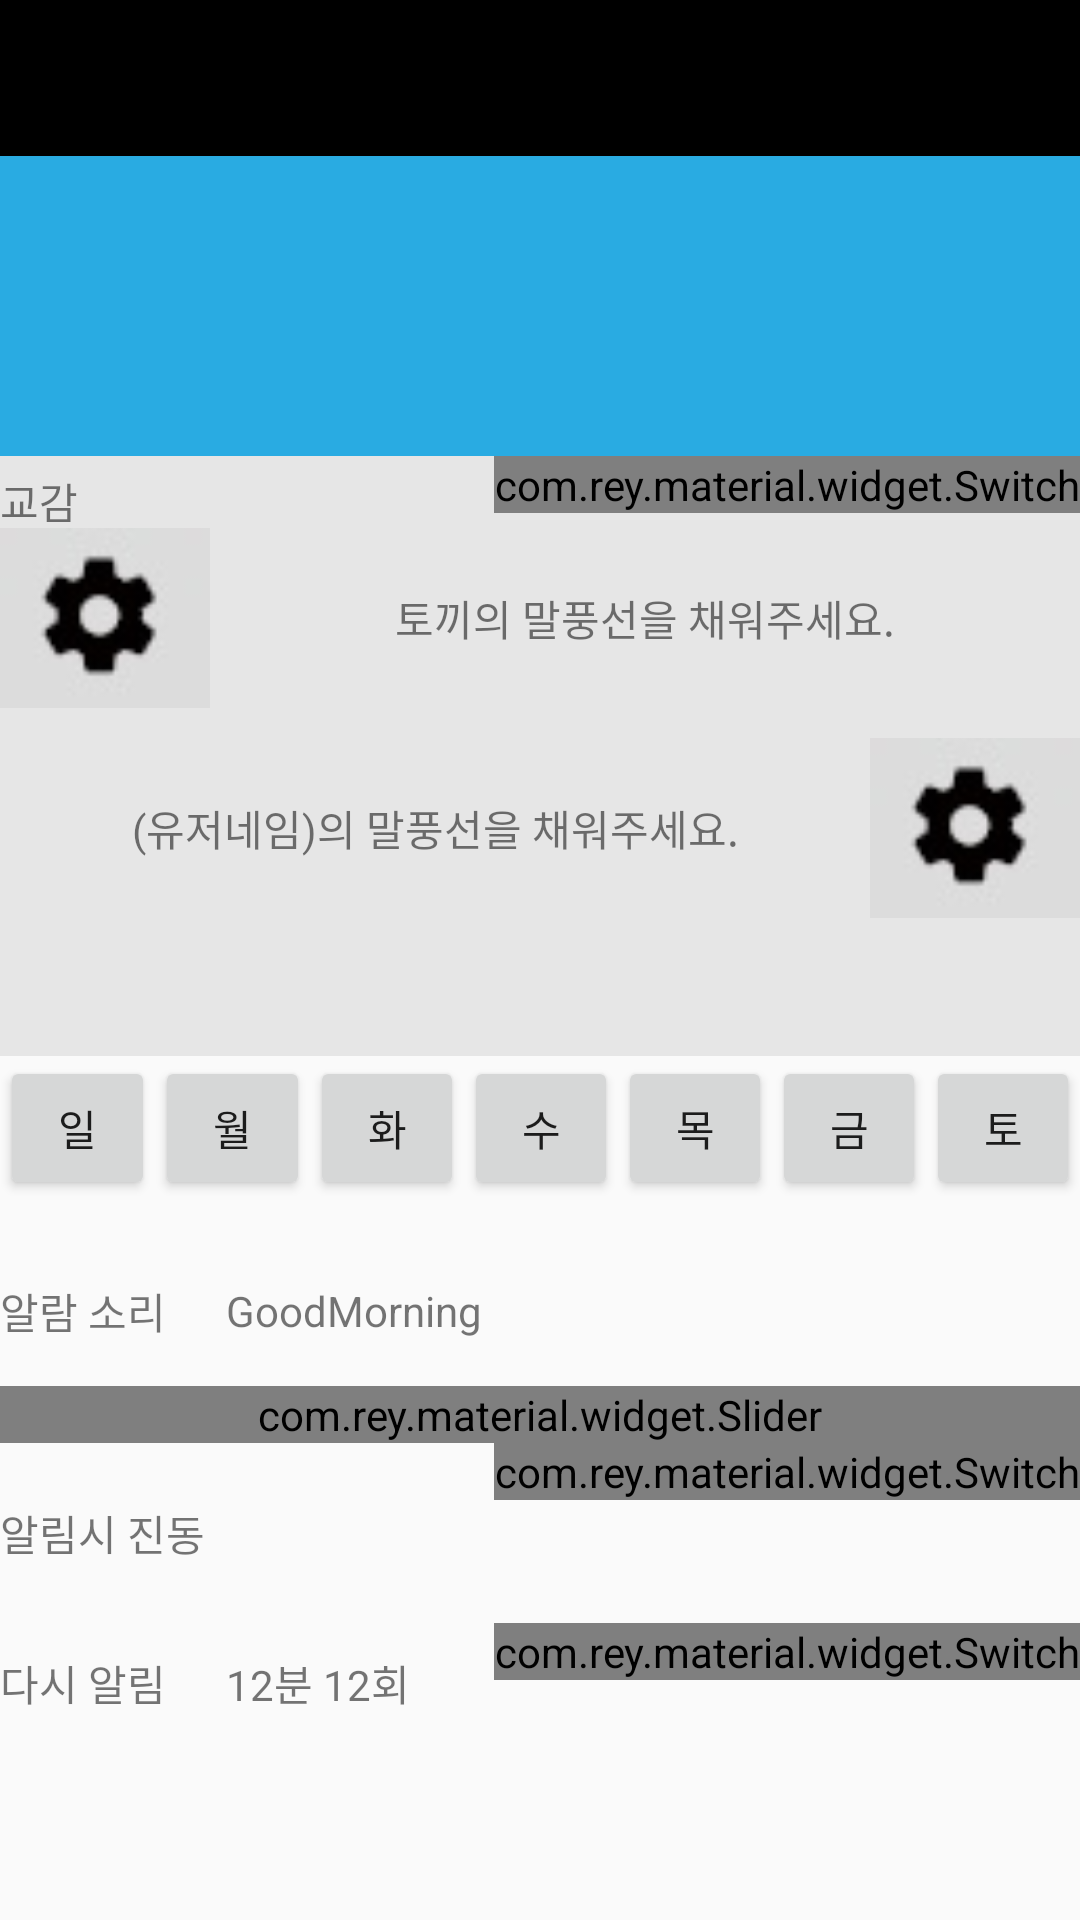

Icons on this 1080×1920 Android screen, each with its box as (x1, y1, x2, y2):
settingbutton: (0, 513, 210, 708), (911, 765, 1027, 886)
